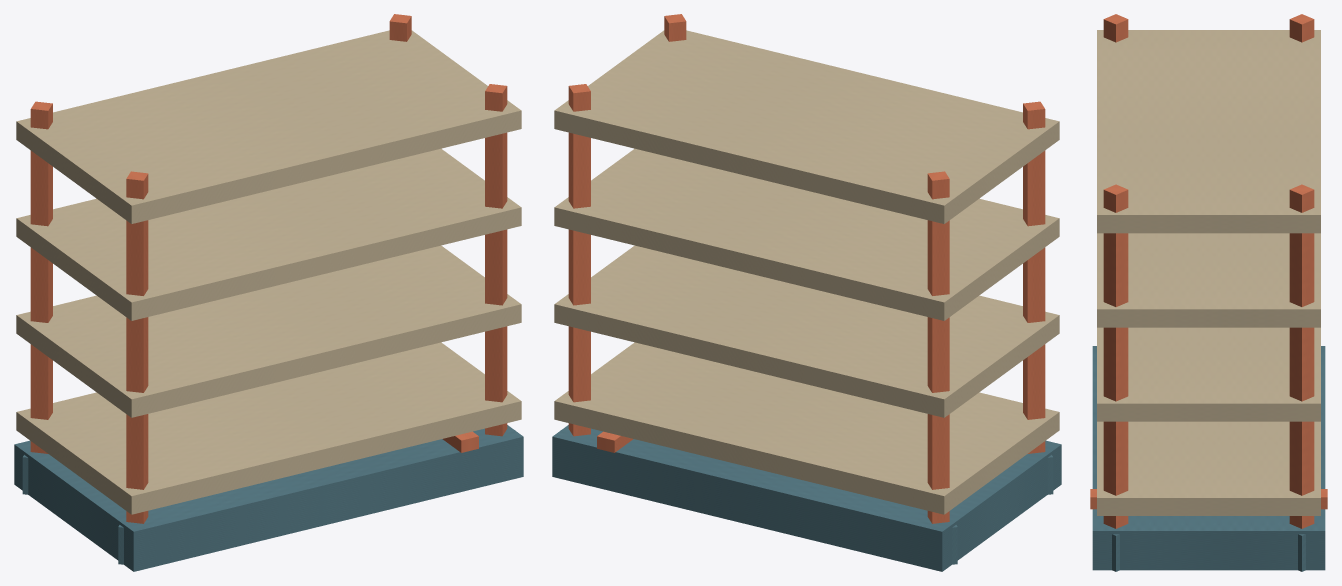
File: atlas100-s044-a06.lod2.glb
The picture shows the model from 3 angles, left to right: view 1: azimuth 30°, elevation 25°; view 2: azimuth 150°, elevation 25°; view 3: azimuth 270°, elevation 25°; orthographic projection. The views are drawn at different scales.
Parts seen in each view (by area): view 1: atlas100-s044-a06:part-014, atlas100-s044-a06:part-011, atlas100-s044-a06:part-013, atlas100-s044-a06:part-012, atlas100-s044-a06:part-000, atlas100-s044-a06:part-005, atlas100-s044-a06:part-009, atlas100-s044-a06:part-003; view 2: atlas100-s044-a06:part-014, atlas100-s044-a06:part-011, atlas100-s044-a06:part-013, atlas100-s044-a06:part-012, atlas100-s044-a06:part-000, atlas100-s044-a06:part-003, atlas100-s044-a06:part-007, atlas100-s044-a06:part-005; view 3: atlas100-s044-a06:part-014, atlas100-s044-a06:part-013, atlas100-s044-a06:part-012, atlas100-s044-a06:part-011, atlas100-s044-a06:part-000, atlas100-s044-a06:part-007, atlas100-s044-a06:part-009, atlas100-s044-a06:part-003, atlas100-s044-a06:part-005.
Part boxes in pixels (x1,y1,x2,y2): atlas100-s044-a06:part-014: [16, 30, 521, 223]; atlas100-s044-a06:part-011: [16, 342, 521, 514]; atlas100-s044-a06:part-013: [16, 148, 521, 320]; atlas100-s044-a06:part-012: [16, 245, 521, 417]; atlas100-s044-a06:part-000: [14, 425, 523, 571]; atlas100-s044-a06:part-005: [126, 171, 148, 523]; atlas100-s044-a06:part-009: [485, 84, 507, 436]; atlas100-s044-a06:part-003: [30, 101, 52, 453]; atlas100-s044-a06:part-014: [554, 30, 1059, 223]; atlas100-s044-a06:part-011: [554, 342, 1059, 514]; atlas100-s044-a06:part-013: [554, 148, 1059, 320]; atlas100-s044-a06:part-012: [554, 245, 1059, 417]; atlas100-s044-a06:part-000: [552, 425, 1061, 571]; atlas100-s044-a06:part-003: [927, 171, 949, 523]; atlas100-s044-a06:part-007: [568, 84, 590, 436]; atlas100-s044-a06:part-005: [1023, 101, 1045, 453]; atlas100-s044-a06:part-014: [1097, 30, 1320, 233]; atlas100-s044-a06:part-013: [1097, 233, 1320, 327]; atlas100-s044-a06:part-012: [1097, 327, 1320, 421]; atlas100-s044-a06:part-011: [1097, 421, 1320, 515]; atlas100-s044-a06:part-000: [1092, 346, 1325, 570]; atlas100-s044-a06:part-007: [1289, 184, 1314, 528]; atlas100-s044-a06:part-009: [1103, 184, 1128, 528]; atlas100-s044-a06:part-003: [1289, 14, 1314, 42]; atlas100-s044-a06:part-005: [1103, 14, 1128, 42].
Bounding box in the file's own units: 2.69 × 2.48 × 1.43.
Materials: 3 (3 with a texture image).
